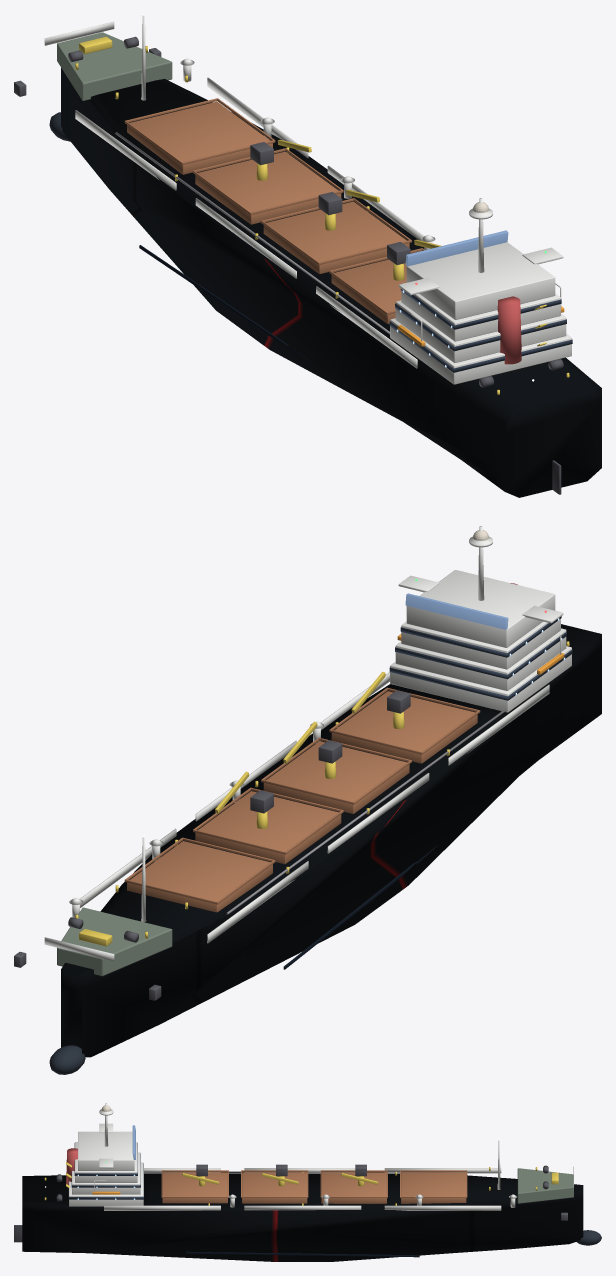
File: ShipHull_VR_v3.0.glb
The picture shows the model from 3 angles, top to bottom: view 1: azimuth 30°, elevation 25°; view 2: azimuth 150°, elevation 25°; view 3: azimuth 270°, elevation 25°; orthographic projection. The views are drawn at different scales.
Visible parts, largest first — view 1: ship_hull, super_deck_4, cargo_hatch_1, cargo_hatch_2, cargo_hatch_3, forecastle, super_deck_1, super_deck_2, cargo_hatch_4, super_deck_3, funnel, bridge_front_window_band (+10 smaller); view 2: ship_hull, super_deck_4, cargo_hatch_1, cargo_hatch_2, cargo_hatch_3, cargo_hatch_4, forecastle, super_deck_1, super_deck_2, super_deck_3, bridge_front_window_band, bulwark_port_seg_3 (+9 smaller); view 3: ship_hull, super_deck_4, cargo_hatch_1, cargo_hatch_3, cargo_hatch_4, cargo_hatch_2, forecastle, super_deck_1, super_deck_2, super_deck_3, bulwark_starboard_seg_1, bulwark_starboard_seg_3 (+10 smaller).
Part boxes in pixels (x1,y1,x2,y2): ship_hull: [61, 68, 601, 497]; super_deck_4: [406, 242, 555, 319]; cargo_hatch_1: [127, 101, 272, 174]; cargo_hatch_2: [195, 151, 341, 224]; cargo_hatch_3: [263, 201, 409, 273]; forecastle: [57, 32, 172, 100]; super_deck_1: [390, 318, 571, 384]; super_deck_2: [395, 300, 566, 362]; cargo_hatch_4: [331, 259, 406, 323]; super_deck_3: [401, 282, 560, 341]; funnel: [497, 296, 521, 364]; bridge_front_window_band: [405, 230, 508, 266]; ship_hull: [61, 624, 601, 1057]; super_deck_4: [406, 570, 555, 647]; cargo_hatch_1: [127, 841, 272, 912]; cargo_hatch_2: [195, 791, 341, 864]; cargo_hatch_3: [263, 741, 409, 813]; cargo_hatch_4: [331, 691, 477, 763]; forecastle: [57, 907, 172, 976]; super_deck_1: [390, 646, 571, 712]; super_deck_2: [395, 628, 566, 690]; super_deck_3: [401, 610, 560, 669]; bridge_front_window_band: [405, 593, 508, 629]; bulwark_port_seg_3: [207, 861, 308, 943]; ship_hull: [22, 1171, 583, 1261]; super_deck_4: [78, 1131, 134, 1170]; cargo_hatch_1: [401, 1172, 466, 1203]; cargo_hatch_3: [242, 1172, 307, 1203]; cargo_hatch_4: [162, 1172, 227, 1203]; cargo_hatch_2: [321, 1172, 386, 1203]; forecastle: [517, 1168, 573, 1203]; super_deck_1: [69, 1162, 143, 1206]; super_deck_2: [72, 1152, 140, 1194]; super_deck_3: [75, 1142, 137, 1182]; bulwark_starboard_seg_1: [104, 1205, 220, 1210]; bulwark_starboard_seg_3: [384, 1205, 501, 1210].
Bounding box in the file's own units: 22 × 33.3 × 126.
Materials: 33 (1 with a texture image).
